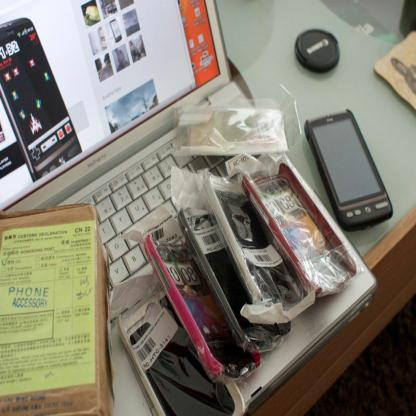board: (0, 0, 376, 415)
